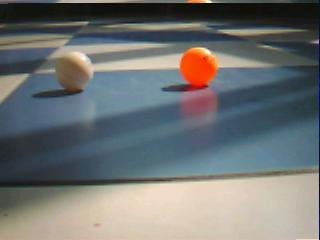oball: (180, 47, 217, 86)
